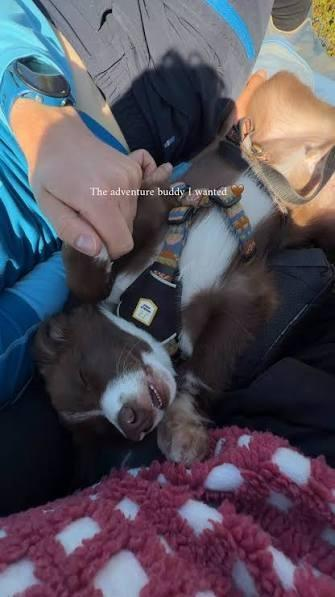adult_dog: (215, 67, 335, 257)
non-dog: (0, 0, 273, 409)
puppy-dog: (34, 158, 282, 468)
